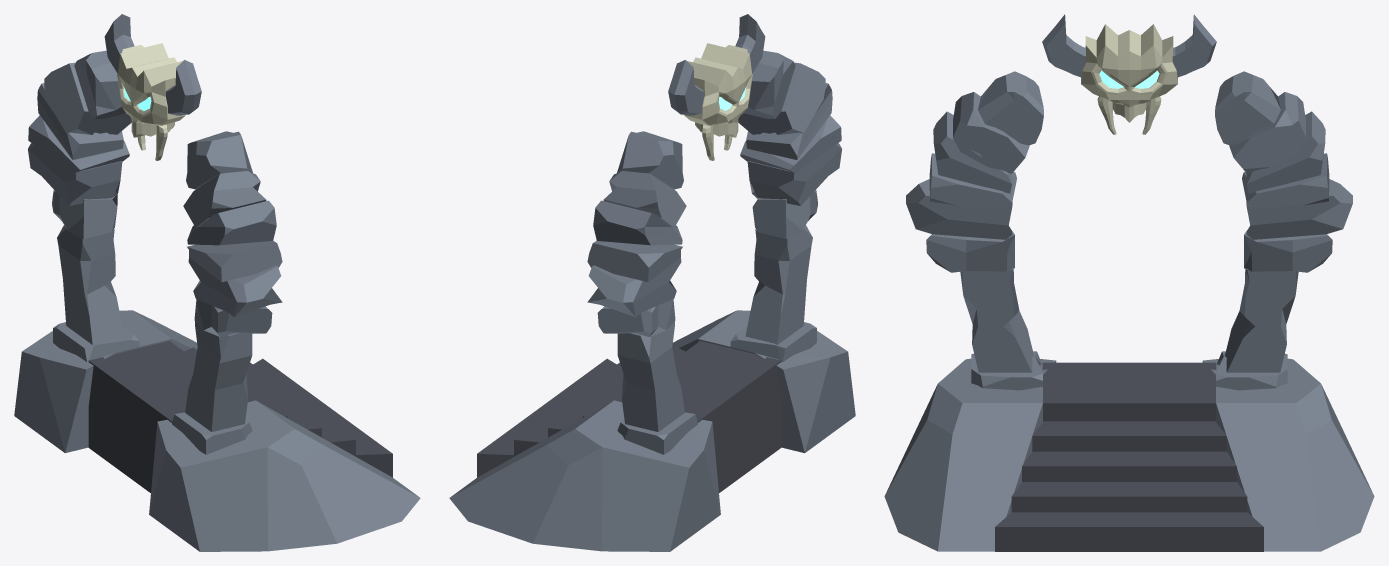
File: CapStone_Portal_Rebecca.fbx
The picture shows the model from 3 angles, left to right: view 1: azimuth 30°, elevation 25°; view 2: azimuth 150°, elevation 25°; view 3: azimuth 270°, elevation 25°; orthographic projection. The views are drawn at different scales.
Parts seen in each view (by area): view 1: Cube.008, Vert, Cube, Cube.004, Cube.007, Cube.009, Cube.006, Cube.005, Cube.010, Cube.002, Cube.001, Cube.012; view 2: Cube.008, Vert, Cube, Cube.004, Cube.007, Cube.009, Cube.006, Cube.005, Cube.010, Cube.002, Cube.001, Cube.012; view 3: Vert, Cube.008, Cube, Cube.004, Cube.009, Cube.007, Cube.010, Cube.002, Cube.006, Cube.005, Cube.012, Cube.001 (+1 smaller).
Boxes of the visible parts, box(x1,y1,x2,y2) form: Cube.008: box(14, 310, 420, 551); Vert: box(88, 341, 392, 492); Cube: box(57, 225, 252, 431); Cube.004: box(28, 143, 282, 317); Cube.007: box(44, 62, 266, 227); Cube.009: box(74, 50, 252, 189); Cube.006: box(37, 83, 276, 245); Cube.005: box(28, 115, 282, 282); Cube.010: box(117, 43, 185, 137); Cube.002: box(52, 189, 272, 336); Cube.001: box(53, 322, 252, 454); Cube.012: box(104, 14, 201, 115); Cube.008: box(449, 310, 855, 551); Vert: box(477, 341, 781, 492); Cube: box(617, 225, 812, 431); Cube.004: box(587, 143, 841, 317); Cube.007: box(603, 62, 825, 227); Cube.009: box(617, 50, 795, 189); Cube.006: box(593, 83, 832, 245); Cube.005: box(587, 115, 841, 282); Cube.010: box(684, 43, 752, 137); Cube.002: box(597, 189, 817, 336); Cube.001: box(617, 322, 816, 454); Cube.012: box(668, 14, 765, 115); Vert: box(995, 362, 1263, 551); Cube.008: box(884, 358, 1374, 551); Cube: box(960, 268, 1298, 372); Cube.004: box(906, 179, 1352, 239); Cube.009: box(978, 71, 1280, 145); Cube.007: box(953, 92, 1305, 173); Cube.010: box(1081, 24, 1177, 122); Cube.002: box(926, 231, 1332, 272); Cube.006: box(933, 111, 1325, 193); Cube.005: box(929, 153, 1329, 207); Cube.012: box(1042, 14, 1216, 77); Cube.001: box(971, 351, 1287, 390).
Bounding box in the file's own units: 156 × 286 × 283.
